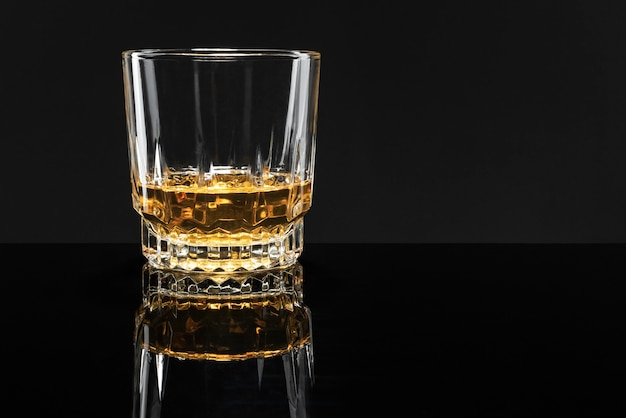alcohol: (117, 47, 322, 273)
